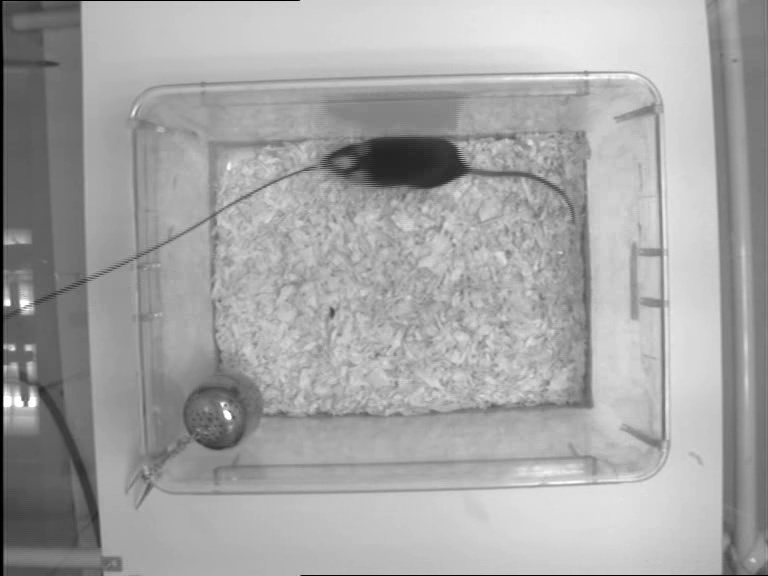mice: (320, 136, 577, 225)
